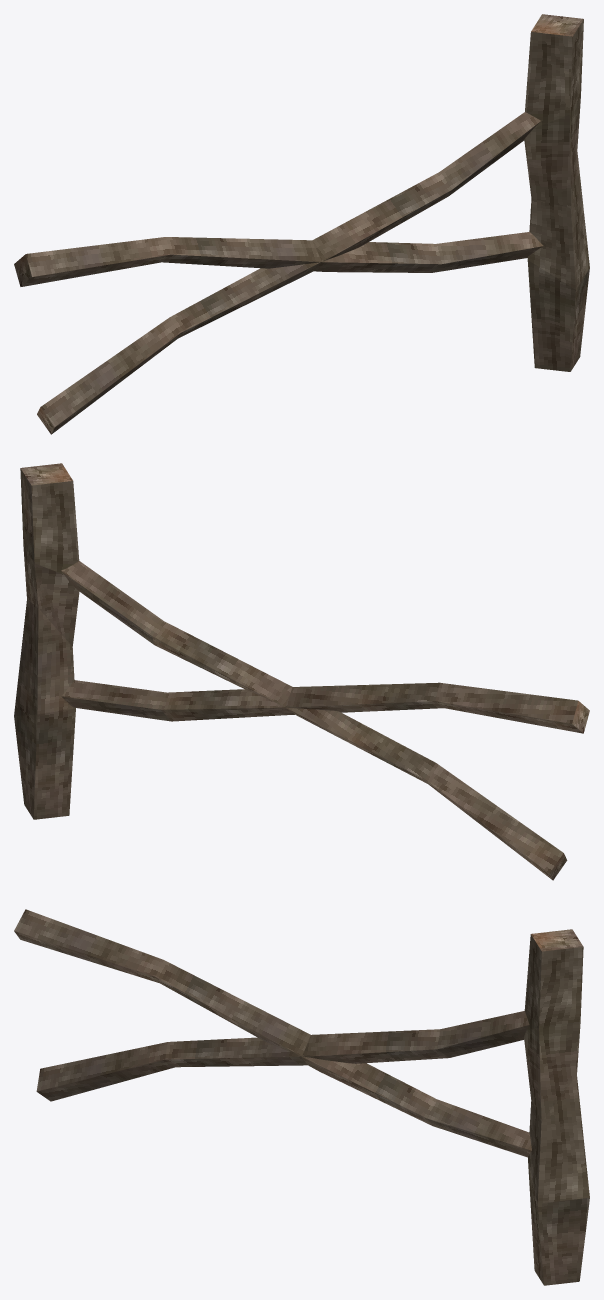
File: wooden_fence_oen_crossed.glb
3 views of the same model, one above another, from view 1: azimuth 30°, elevation 25°; view 2: azimuth 150°, elevation 25°; view 3: azimuth 330°, elevation 25° (orthographic).
Visible parts, largest first — view 1: wooden_fence_oen_crossed; view 2: wooden_fence_oen_crossed; view 3: wooden_fence_oen_crossed.
Boxes of the visible parts, <box> form: wooden_fence_oen_crossed: <box>14,14,589,434</box>; wooden_fence_oen_crossed: <box>14,463,589,880</box>; wooden_fence_oen_crossed: <box>14,909,589,1285</box>.
Size of the model in its own units: 2.12 by 1.2 by 0.237.
Materials: 1 (1 with a texture image).
